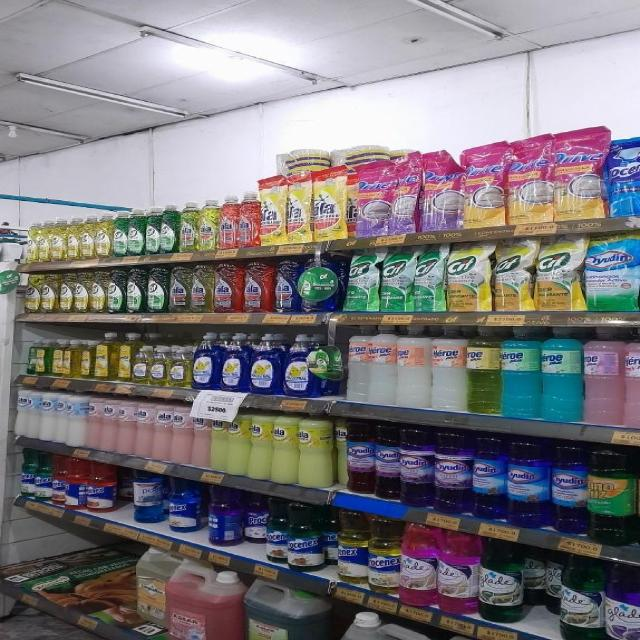ala_conc_amarillo: (191, 264, 213, 313), (198, 199, 218, 252), (178, 200, 198, 252), (169, 266, 190, 313)
ala_conc_azul: (274, 258, 298, 314)
ala_conc_rojo: (242, 260, 272, 314), (214, 262, 242, 313), (238, 192, 258, 247), (218, 194, 237, 250)
ala_crem_amarillo: (299, 411, 334, 487), (272, 410, 297, 483), (250, 409, 271, 480), (228, 408, 248, 477), (210, 409, 228, 472)
ala_crem_blanco: (13, 386, 34, 438), (69, 394, 86, 447), (39, 391, 55, 441), (55, 392, 68, 444)
ala_crem_rosado: (171, 404, 191, 464), (192, 407, 210, 468), (152, 402, 170, 461), (116, 398, 134, 455), (136, 401, 152, 458), (101, 397, 116, 452), (86, 396, 101, 450)
ala_sachet_amarillo: (313, 167, 347, 241), (287, 172, 312, 244), (260, 177, 285, 246)
cif_conc_bot_amarilla: (95, 212, 111, 258), (79, 214, 94, 260), (90, 270, 106, 313), (41, 273, 58, 313), (50, 217, 65, 262), (73, 272, 89, 314), (33, 219, 48, 262), (66, 216, 80, 260), (59, 272, 73, 314)
cif_conc_botella_verde: (145, 266, 168, 314), (160, 203, 178, 254), (126, 268, 144, 314), (127, 208, 143, 256), (108, 268, 124, 314), (145, 205, 159, 255), (112, 210, 127, 256)
cif_conc_sachet_amarillo: (535, 234, 582, 312), (446, 241, 491, 312), (493, 237, 533, 311)
cif_conc_sachet_verde: (344, 247, 379, 312)
drive: (508, 134, 555, 224), (464, 141, 506, 227)
heroe: (430, 325, 466, 411), (396, 325, 429, 408), (367, 326, 396, 404), (92, 333, 112, 380)
magistral_con_amarillo: (169, 344, 191, 388), (132, 339, 150, 384), (150, 345, 168, 386)
magistral_con_azul: (283, 333, 314, 397), (250, 332, 281, 394), (220, 332, 248, 392), (192, 332, 219, 390)
